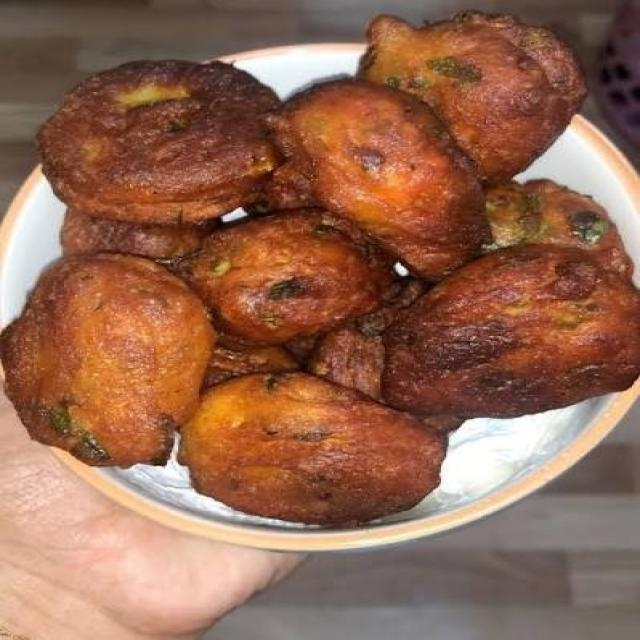Kebab: (29, 26, 636, 538)
